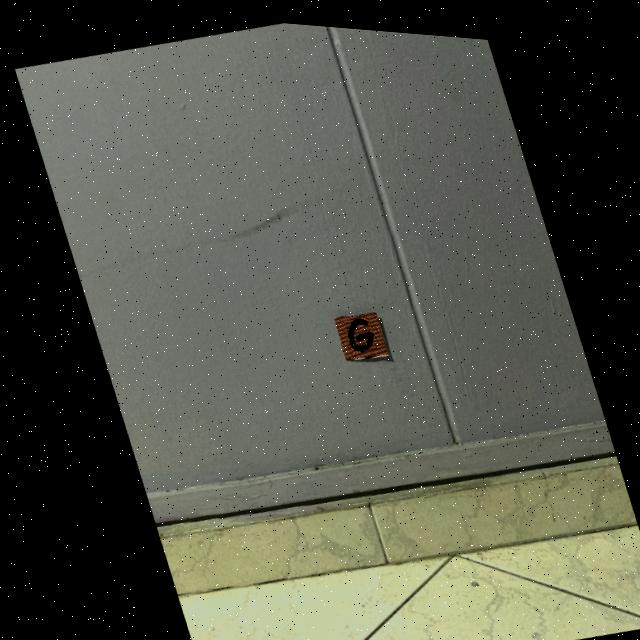G: (344, 313, 369, 346)
